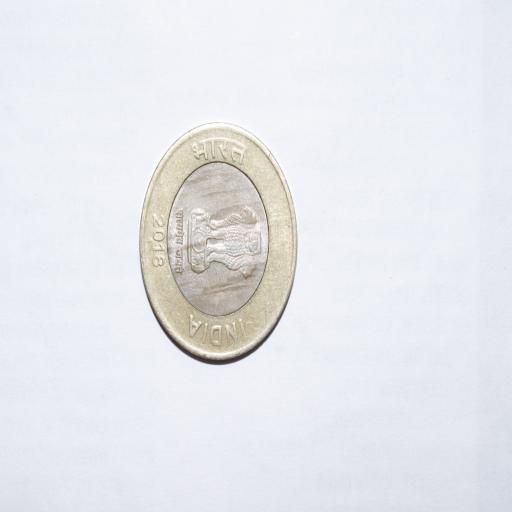rupee10: (139, 122, 299, 362)
